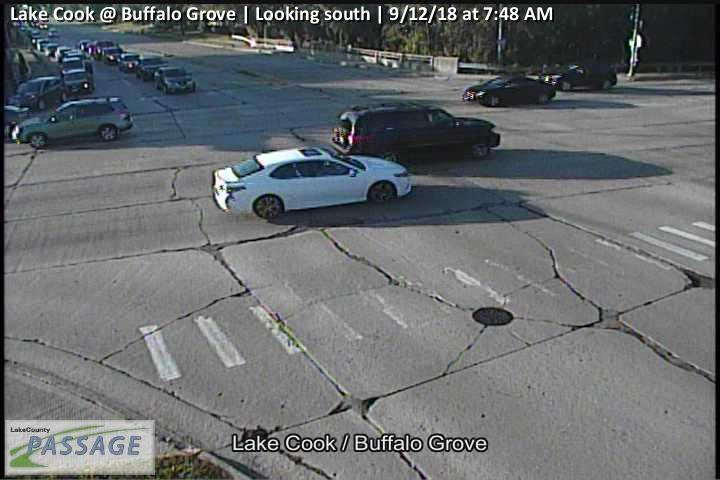SUV: (329, 103, 500, 162), (12, 96, 134, 150), (541, 63, 617, 89), (15, 75, 69, 108), (153, 66, 195, 97), (63, 72, 94, 96), (135, 58, 167, 81), (62, 57, 88, 83), (119, 52, 140, 72), (103, 46, 122, 66), (94, 40, 113, 60)
Sedan: (213, 147, 411, 220), (463, 76, 555, 106)
